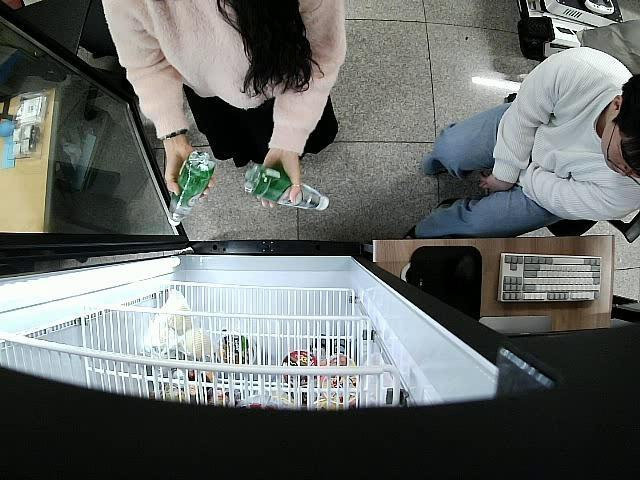18_trevi: (240, 161, 330, 211), (167, 150, 216, 227)
